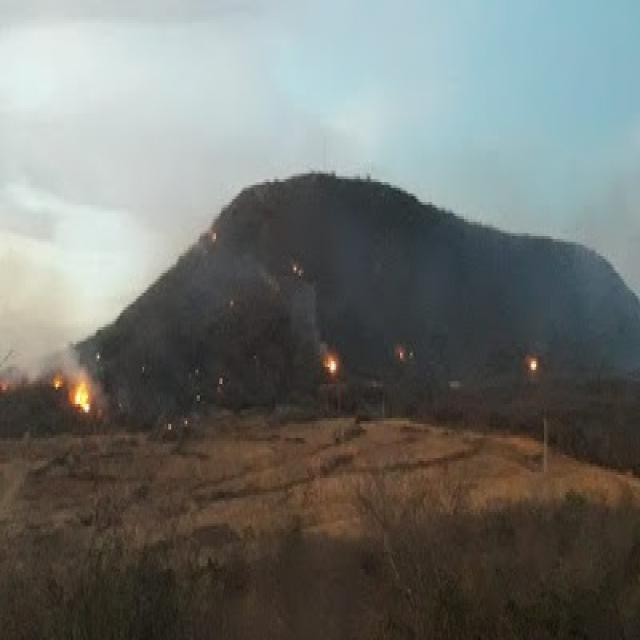Fire: (318, 344, 346, 378), (69, 381, 93, 415), (526, 349, 540, 373), (395, 344, 406, 367)
Smoke: (565, 160, 640, 381), (7, 222, 102, 392), (502, 212, 568, 358), (414, 215, 458, 344), (4, 337, 53, 393), (290, 279, 330, 346), (49, 316, 88, 376), (238, 248, 284, 290)
